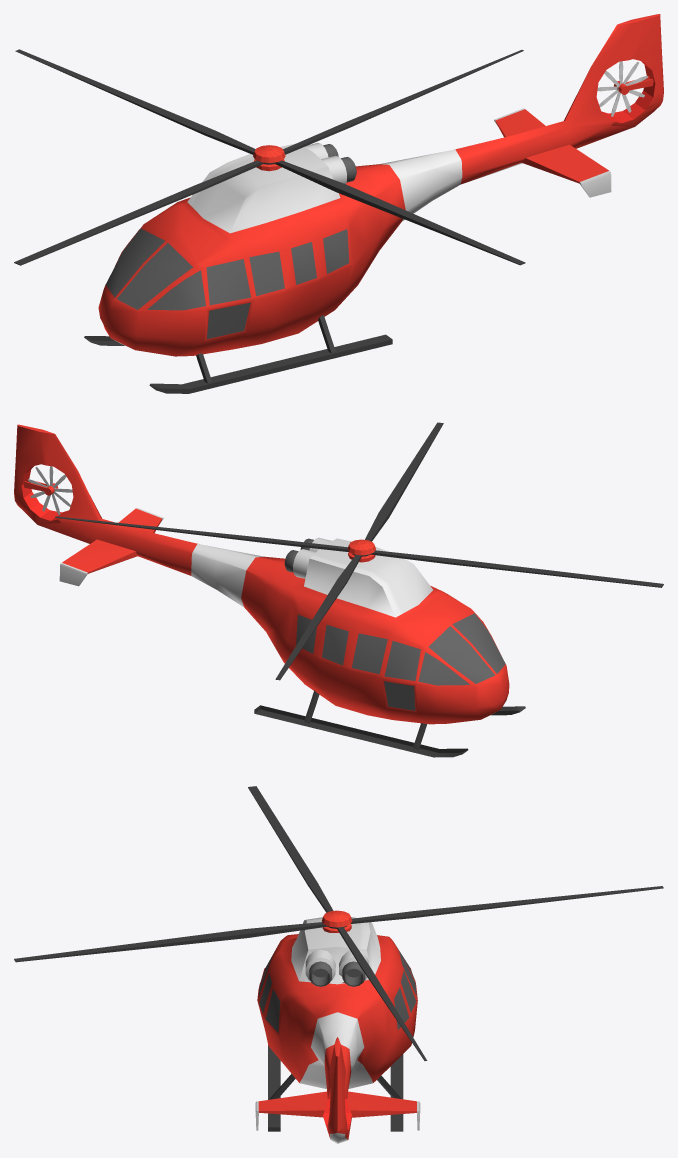
Rendered from Helicopter.obj.
3 renders of one model, top to bottom at view 1: azimuth 30°, elevation 25°; view 2: azimuth 150°, elevation 25°; view 3: azimuth 270°, elevation 25°, orthographic. The views are drawn at different scales.
Visible parts, largest first — view 1: Copter, Propeller_2, Legs, Propeller, Cylinder; view 2: Copter, Propeller_2, Legs, Propeller, Cylinder; view 3: Copter, Propeller_2, Legs.
Boxes of the visible parts, x1=… form: Copter: x1=98, y1=14, x2=663, y2=356; Propeller_2: x1=14, y1=49, x2=525, y2=265; Legs: x1=84, y1=315, x2=392, y2=393; Propeller: x1=597, y1=61, x2=647, y2=116; Cylinder: x1=602, y1=61, x2=655, y2=123; Copter: x1=14, y1=424, x2=509, y2=724; Propeller_2: x1=55, y1=422, x2=663, y2=680; Legs: x1=254, y1=690, x2=525, y2=757; Propeller: x1=28, y1=466, x2=72, y2=515; Cylinder: x1=21, y1=466, x2=68, y2=520; Copter: x1=255, y1=917, x2=420, y2=1143; Propeller_2: x1=14, y1=786, x2=663, y2=1060; Legs: x1=268, y1=1045, x2=403, y2=1131.
Size of the model in its own units: 48.24 by 15.21 by 41.72.
1 material, 1 textured.
